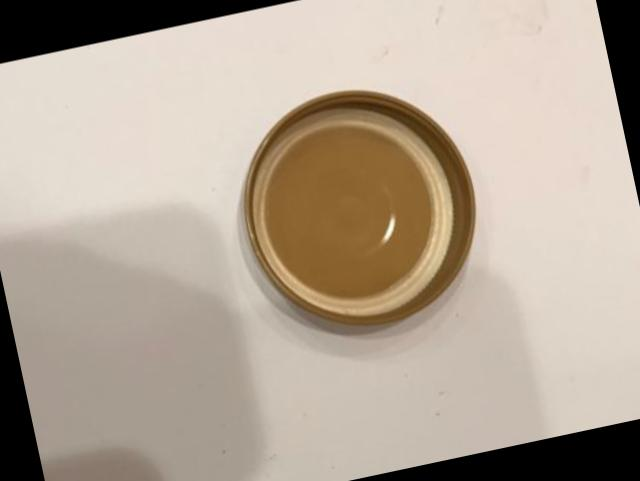metal: (245, 88, 475, 321)
